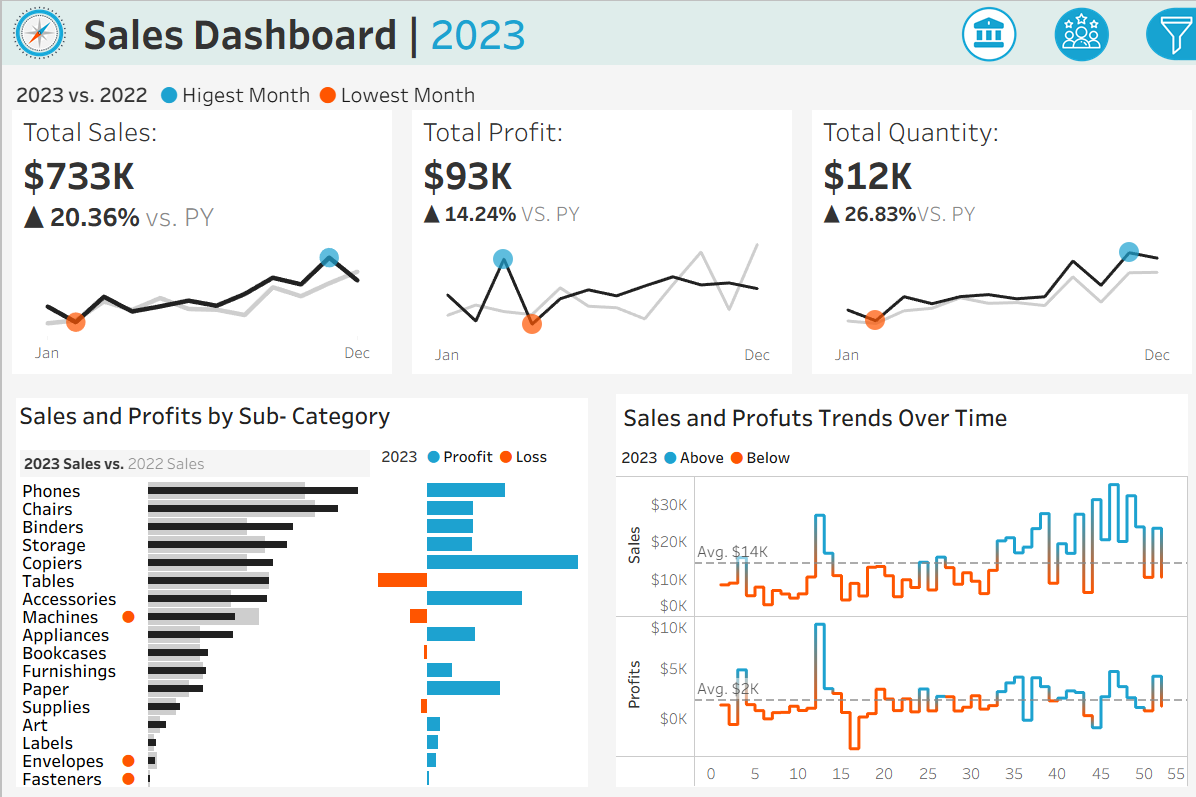

The page's visual inventory and layout, read from the dashboard file:
{"tool":"tableau","page":{"name":"Sales Dashboard","canvas":[1200,800],"ordinal":1},"visuals":[{"type":"image","param":"Image/Icon - Logo.png","box":[0,0,74,64]},{"type":"text","box":[74,0,1126,64]},{"type":"dashboard-object","box":[941,1,92,64]},{"type":"dashboard-object","box":[1033,1,92,64]},{"type":"worksheet","title":"Ledgend of KPI","mark":"Automatic","box":[0,64,1200,45]},{"type":"blank","box":[955,64,244,32]},{"type":"text","box":[955,96,244,40]},{"type":"worksheet","title":"KPI Sales","mark":"Automatic","rows":["Calculation_549157719122173956"],"cols":["Order Date"],"box":[0,109,400,274]},{"type":"worksheet","title":"KPI Profits","mark":"Line","rows":["Calculation_526639721223036931"],"cols":["Order Date"],"box":[400,109,400,274]},{"type":"worksheet","title":"KPI Quantity","mark":"Automatic","rows":["Calculation_526639721252122634"],"cols":["Order Date"],"box":[800,109,400,274]},{"type":"blank","box":[955,136,244,32]},{"type":"parameter","param":"[Parameters].[Parameter 1]","box":[955,168,244,56]},{"type":"blank","box":[955,224,244,40]},{"type":"text","box":[955,264,244,36]},{"type":"filter","title":"KPI Sales","param":"[federated.0gbm3qa101q3og1h2bc7u1m1cbze].[none:Category:nk]","box":[955,300,244,61]},{"type":"filter","title":"KPI Sales","param":"[federated.0gbm3qa101q3og1h2bc7u1m1cbze].[none:Sub-Category:nk]","box":[955,361,244,61]},{"type":"text","box":[10,393,580,37]},{"type":"text","box":[614,393,572,46]},{"type":"text","box":[955,422,244,36]},{"type":"worksheet","title":"Ledgend SubCategory","mark":"Automatic","box":[14,430,358,50]},{"type":"text","box":[372,430,214,50]},{"type":"text","box":[616,437,441,38]},{"type":"filter","title":"KPI Sales","param":"[federated.0gbm3qa101q3og1h2bc7u1m1cbze].[none:Region:nk]","box":[955,458,244,61]},{"type":"worksheet","title":"Trends","mark":"Line","rows":["Calculation_549157719113756672","Calculation_526639721219571712"],"cols":["Order Date"],"box":[610,475.3,580,314.7]},{"type":"worksheet","title":"SubCategory","mark":"Bar","rows":["Sub-Category","Calculation_526639721268432909"],"cols":["CurrentYear (copy)_549157719114637313","Calculation_549157719113756672","Calculation_526639721219571712"],"box":[10,480,580,309.9]},{"type":"filter","title":"KPI Sales","param":"[federated.0gbm3qa101q3og1h2bc7u1m1cbze].[none:State:nk]","box":[955,519,244,61]},{"type":"filter","title":"KPI Sales","param":"[federated.0gbm3qa101q3og1h2bc7u1m1cbze].[none:City:nk]","box":[955,580,244,61]}]}

Visuals, with their boxes in screenshot pixels (x1, y1, x2, y2), scaled from the page's 1200x800 canvas onto the 1196x797 screenshot:
image: 0/0/74/64
text: 74/0/1195/64
dashboard-object: 938/1/1030/65
dashboard-object: 1030/1/1121/65
"Ledgend of KPI" worksheet: 0/64/1195/109
blank: 952/64/1195/96
text: 952/96/1195/135
"KPI Sales" worksheet: 0/109/399/382
"KPI Profits" worksheet (Line marks): 399/109/797/382
"KPI Quantity" worksheet: 797/109/1195/382
blank: 952/135/1195/167
parameter: 952/167/1195/223
blank: 952/223/1195/263
text: 952/263/1195/299
"KPI Sales" filter: 952/299/1195/360
"KPI Sales" filter: 952/360/1195/420
text: 10/392/588/428
text: 612/392/1182/437
text: 952/420/1195/456
"Ledgend SubCategory" worksheet: 14/428/371/478
text: 371/428/584/478
text: 614/435/1053/473
"KPI Sales" filter: 952/456/1195/517
"Trends" worksheet (Line marks): 608/474/1186/787
"SubCategory" worksheet (Bar marks): 10/478/588/787
"KPI Sales" filter: 952/517/1195/578
"KPI Sales" filter: 952/578/1195/639
